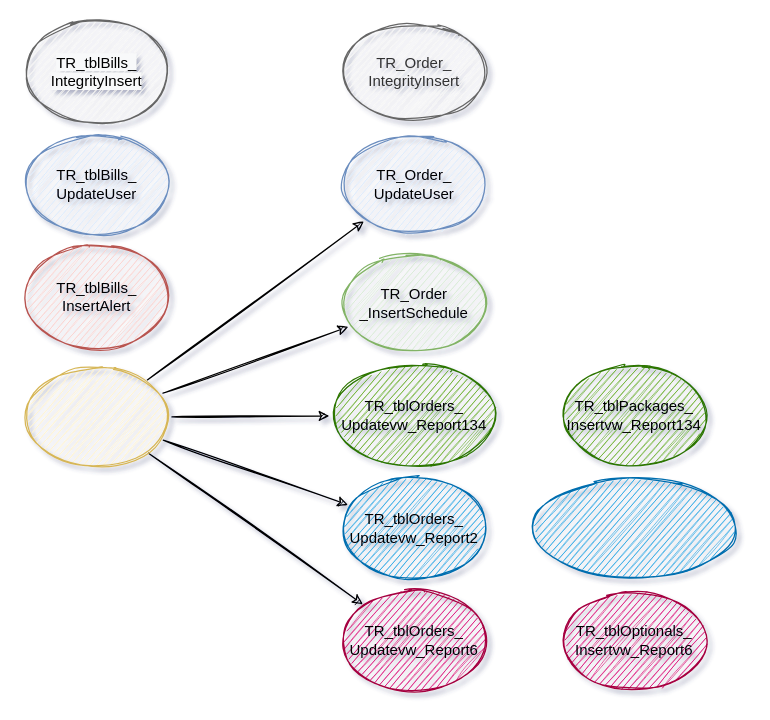
The diagram is 770 pixels wide and 720 high, and some of its shapes have lost their labels. The box of each missing label's shape, as (x1, y1, x2, y2) in pixels:
TR_tblBills_ UpdateOrder: (21, 366, 172, 467)
TR_tblPackageLastsPeriod_ Insertvw_Report2: (527, 477, 741, 578)
